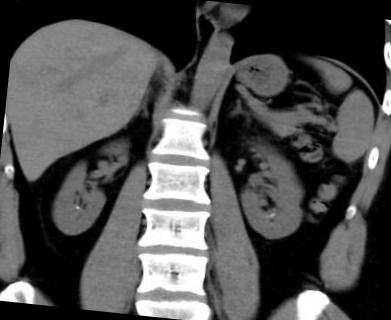Tas_Var: (72, 203, 81, 212), (268, 212, 276, 218)
